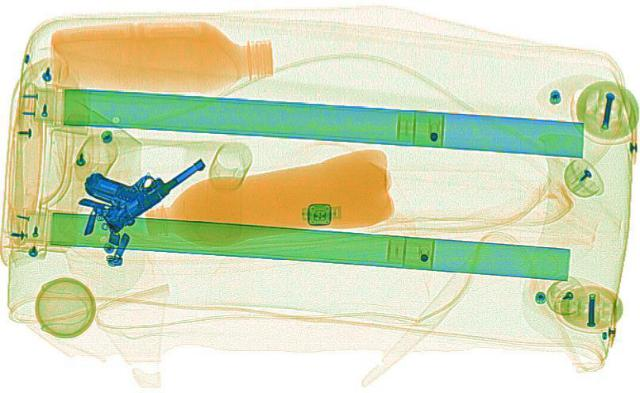Gun: (56, 140, 232, 233)
